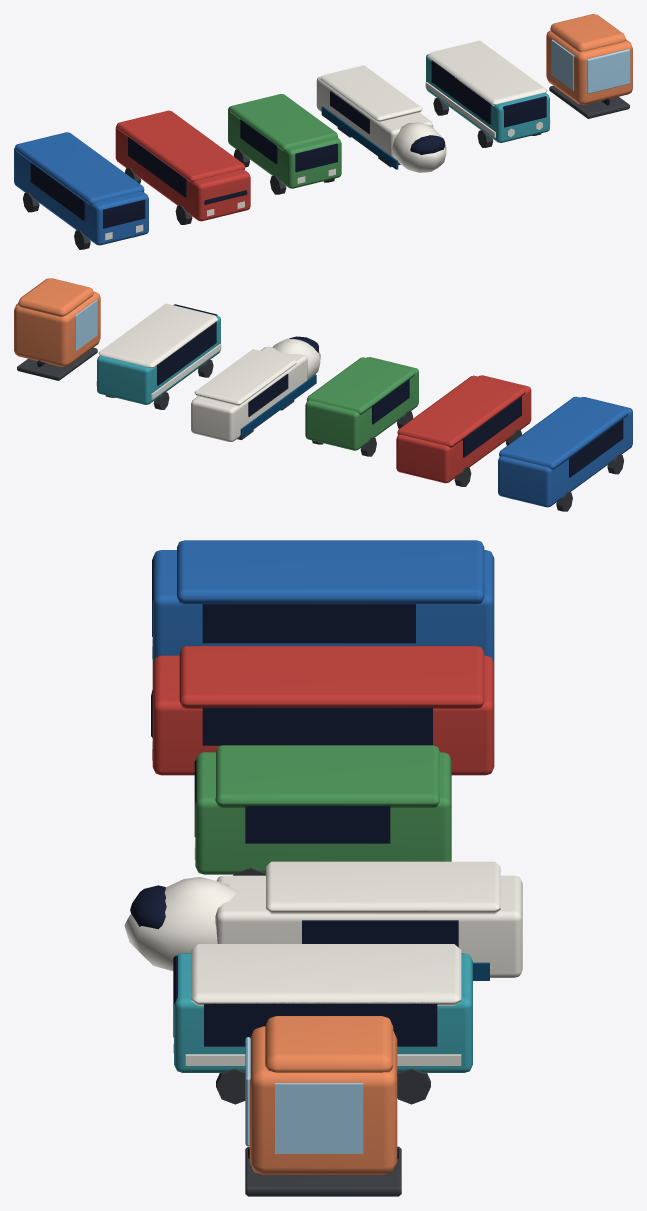
The model's file is TransitTokens.glb.
The picture shows the model from 3 angles, top to bottom: view 1: azimuth 30°, elevation 25°; view 2: azimuth 150°, elevation 25°; view 3: azimuth 270°, elevation 25°; orthographic projection. The views are drawn at different scales.
Parts seen in each view (by area): view 1: MAP04_TransitTokens_BusStdRoof_L0, MAP04_TransitTokens_BusExpressRoof_L0, MAP04_TransitTokens_BeachTrainRoof_L0, MAP04_TransitTokens_BusExpressBody_L0, MAP04_TransitTokens_BusVillageRoof_L0, MAP04_TransitTokens_BusStdBody_L0, MAP04_TransitTokens_KTXRoof_L0, MAP04_TransitTokens_BusVillageBody_L0, MAP04_TransitTokens_SkyCapsuleBody_L0, MAP04_TransitTokens_KTXBody_L0, MAP04_TransitTokens_BeachTrainBody_L0, MAP04_TransitTokens_SkyCapsuleRoof_L0 (+15 smaller); view 2: MAP04_TransitTokens_BusStdRoof_L0, MAP04_TransitTokens_BusExpressRoof_L0, MAP04_TransitTokens_BusStdBody_L0, MAP04_TransitTokens_BeachTrainRoof_L0, MAP04_TransitTokens_BusExpressBody_L0, MAP04_TransitTokens_SkyCapsuleBody_L0, MAP04_TransitTokens_BusVillageBody_L0, MAP04_TransitTokens_BusVillageRoof_L0, MAP04_TransitTokens_KTXBody_L0, MAP04_TransitTokens_KTXRoof_L0, MAP04_TransitTokens_BeachTrainBody_L0, MAP04_TransitTokens_SkyCapsuleRoof_L0 (+10 smaller); view 3: MAP04_TransitTokens_BusStdRoof_L0, MAP04_TransitTokens_BusExpressRoof_L0, MAP04_TransitTokens_BeachTrainRoof_L0, MAP04_TransitTokens_BusVillageRoof_L0, MAP04_TransitTokens_KTXRoof_L0, MAP04_TransitTokens_BusVillageBody_L0, MAP04_TransitTokens_SkyCapsuleBody_L0, MAP04_TransitTokens_KTXBody_L0, MAP04_TransitTokens_BusExpressBody_L0, MAP04_TransitTokens_BusExpressSideGlassR_L0, MAP04_TransitTokens_BusStdSideGlassR_L0, MAP04_TransitTokens_BusStdBody_L0 (+12 smaller).
Part boxes in pixels (x1,y1,x2,y2): MAP04_TransitTokens_BusStdRoof_L0: (15, 132, 144, 205); MAP04_TransitTokens_BusExpressRoof_L0: (116, 110, 245, 182); MAP04_TransitTokens_BeachTrainRoof_L0: (427, 40, 546, 105); MAP04_TransitTokens_BusExpressBody_L0: (115, 126, 250, 221); MAP04_TransitTokens_BusVillageRoof_L0: (229, 94, 337, 151); MAP04_TransitTokens_BusStdBody_L0: (14, 147, 148, 245); MAP04_TransitTokens_KTXRoof_L0: (320, 65, 422, 122); MAP04_TransitTokens_BusVillageBody_L0: (228, 107, 341, 188); MAP04_TransitTokens_SkyCapsuleBody_L0: (546, 30, 632, 104); MAP04_TransitTokens_KTXBody_L0: (316, 76, 433, 162); MAP04_TransitTokens_BeachTrainBody_L0: (426, 54, 549, 142); MAP04_TransitTokens_SkyCapsuleRoof_L0: (550, 14, 625, 51); MAP04_TransitTokens_BusStdRoof_L0: (499, 396, 628, 469); MAP04_TransitTokens_BusExpressRoof_L0: (397, 375, 525, 447); MAP04_TransitTokens_BusStdBody_L0: (498, 397, 632, 507); MAP04_TransitTokens_BeachTrainRoof_L0: (98, 303, 217, 368); MAP04_TransitTokens_BusExpressBody_L0: (396, 375, 531, 483); MAP04_TransitTokens_SkyCapsuleBody_L0: (14, 291, 100, 366); MAP04_TransitTokens_BusVillageBody_L0: (305, 357, 418, 450); MAP04_TransitTokens_BusVillageRoof_L0: (307, 357, 415, 414); MAP04_TransitTokens_KTXBody_L0: (191, 346, 307, 441); MAP04_TransitTokens_KTXRoof_L0: (194, 349, 296, 406); MAP04_TransitTokens_BeachTrainBody_L0: (97, 305, 220, 404); MAP04_TransitTokens_SkyCapsuleRoof_L0: (18, 278, 93, 316); MAP04_TransitTokens_BusStdRoof_L0: (177, 540, 484, 604); MAP04_TransitTokens_BusExpressRoof_L0: (179, 646, 484, 708); MAP04_TransitTokens_BeachTrainRoof_L0: (191, 944, 461, 1005); MAP04_TransitTokens_BusVillageRoof_L0: (215, 745, 439, 807); MAP04_TransitTokens_KTXRoof_L0: (266, 861, 500, 914); MAP04_TransitTokens_BusVillageBody_L0: (195, 752, 451, 874); MAP04_TransitTokens_SkyCapsuleBody_L0: (249, 1026, 397, 1174); MAP04_TransitTokens_KTXBody_L0: (215, 875, 522, 977); MAP04_TransitTokens_BusExpressBody_L0: (152, 655, 494, 775); MAP04_TransitTokens_BusExpressSideGlassR_L0: (202, 707, 432, 745); MAP04_TransitTokens_BusStdSideGlassR_L0: (202, 604, 415, 643); MAP04_TransitTokens_BusStdBody_L0: (152, 550, 494, 663).
Size of the model in its own units: 9.16 by 1.1 by 2.8.
